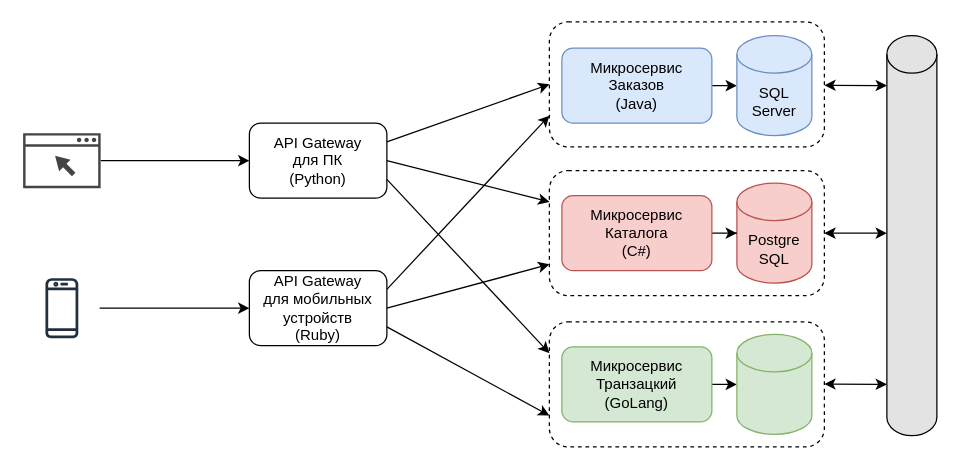
This 959x469 diagram has some shape labels left out. Here are the shapes that lost their labels. From the top down, the centre of each, then its label:
(x=61, y=160): Front-End Agular
(x=911, y=235): Очередь сообщений
(x=61, y=307): Android/iOS
(x=774, y=383): Mongo DB
